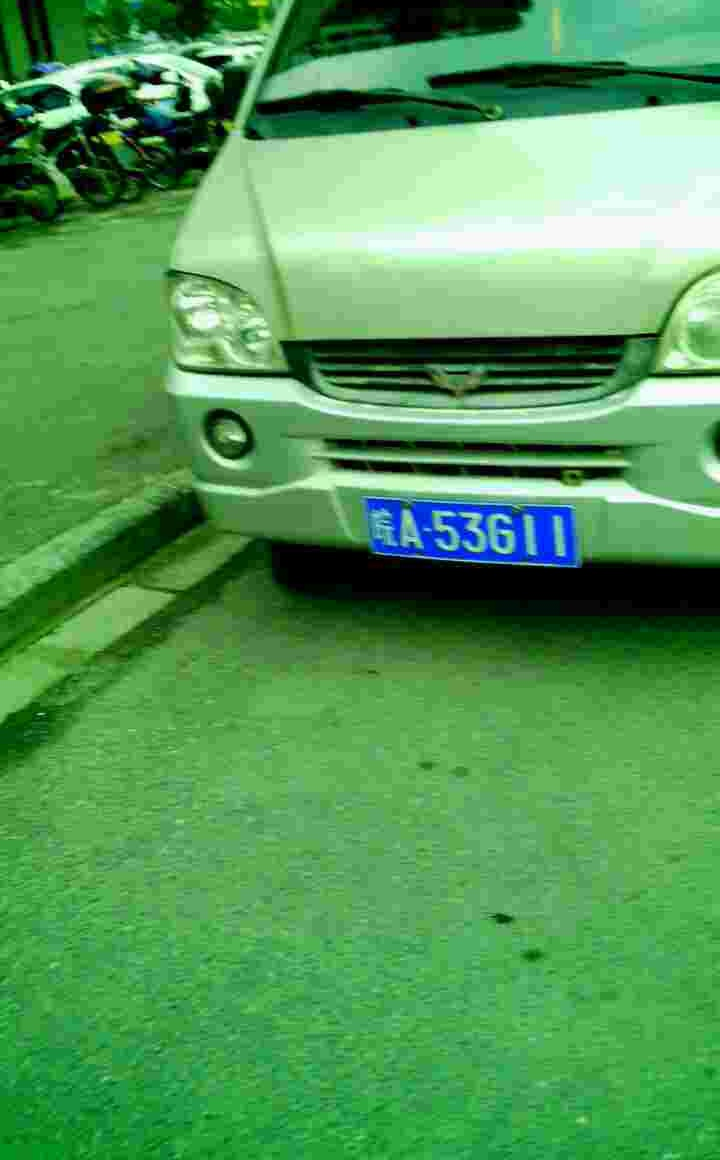license_plate: (366, 501, 588, 568)
